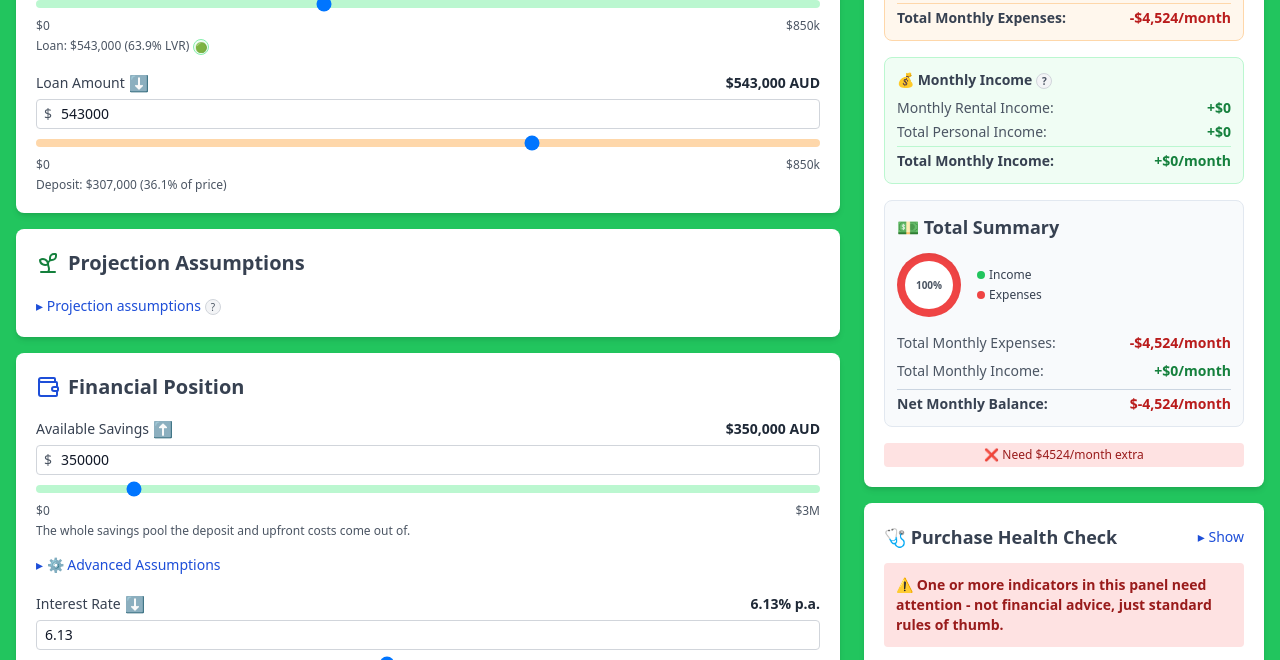
Test case: legacy Realistic Mode scenarios (TODO-141) › loads a scenario saved with Realistic Mode ON with its stored rates intact
(page scrolled)
Click the button "▸ Projection assumptions": (118,306) [36,296,201,316]
(page scrolled)
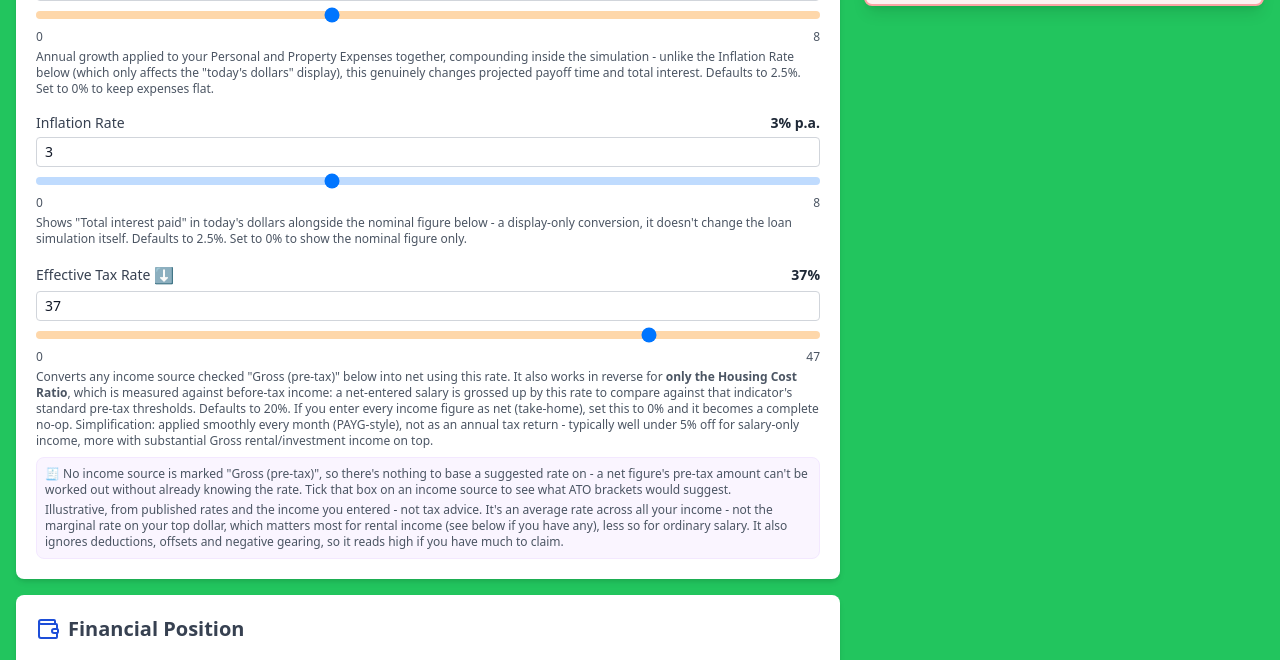
Result: the number field labelled "Effective Tax Rate" holds "37" at [36,291,820,321]
